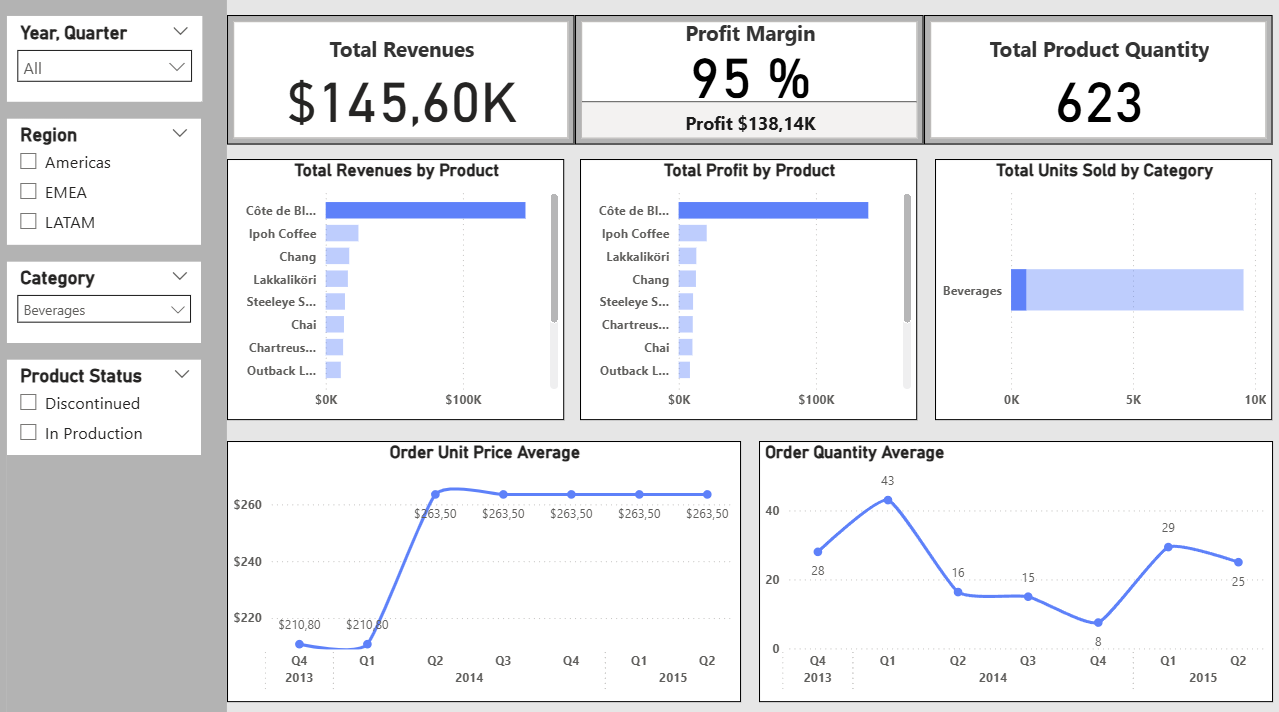

The page's visual inventory and layout, read from the dashboard file:
{"tool":"powerbi","page":{"name":"Products & Category","canvas":[1280,720],"ordinal":2},"visuals":[{"type":"clusteredBarChart","title":"Total Revenues by Product","fields":{"Category":["products.productName"],"Y":["Sum(order_details.revenues)"]},"box":[239.1,165.8,328.2,253.7],"z":0},{"type":"clusteredBarChart","title":"Total Profit by Product","fields":{"Y":["kpi.Profit"],"Category":["products.productName"]},"box":[583,165.8,328.2,253.7],"z":1000},{"type":"lineChart","title":"Order Unit Price Average","fields":{"Category":["date_table.calendar.Year","date_table.calendar.Quarter","date_table.calendar.Month"],"Y":["kpi.Order Unit Price Average"]},"box":[239.1,439.8,499.6,253.7],"z":2000},{"type":"lineChart","title":"Order Quantity Average","fields":{"Category":["date_table.calendar.Year","date_table.calendar.Quarter","date_table.calendar.Month"],"Y":["kpi.Quantity Average"]},"box":[756.7,439.8,499.6,253.7],"z":3000},{"type":"clusteredBarChart","title":"Total Units Sold by Category","fields":{"Category":["categories.categoryName","products.productName"],"Y":["kpi.Total Product Quantity"]},"box":[928.1,165.8,328.2,253.7],"z":4000},{"type":"cardVisual","title":"KPI","fields":{"Data":["kpi.Total Revenues"]},"box":[239.1,24.8,338.3,126.3],"z":5000},{"type":"cardVisual","title":"KPI","fields":{"Data":["kpi.Profit Margin"]},"box":[577.4,24.8,339,126.3],"z":6000},{"type":"cardVisual","title":"KPI","fields":{"Data":["kpi.Total Product Quantity"]},"box":[916.9,24.8,339.5,126.3],"z":7000},{"type":"slicer","title":"Product Category","fields":{"Values":["categories.Category Name"]},"box":[25,264.8,188.9,79.9],"z":8000},{"type":"slicer","fields":{"Values":["products.productStatus"]},"box":[25,359.7,190.9,93.9],"z":9000},{"type":"slicer","fields":{"Values":["customers.geography.region"]},"box":[25,125.9,188.9,122.9],"z":12000},{"type":"shape","box":[12.7,109.7,202.2,16.3],"z":13000},{"type":"shape","box":[19,248.8,202.8,16],"z":15000},{"type":"shape","box":[19,344.7,202.8,16],"z":16000},{"type":"shape","box":[0,0,25,720],"z":17000},{"type":"shape","box":[214,0,25.4,720],"z":18000},{"type":"shape","box":[25,453.6,188.9,266.8],"z":19000},{"type":"shape","box":[12.7,0,202.2,26.3],"z":20000},{"type":"slicer","fields":{"Values":["date_table.calendar.Year","date_table.calendar.Quarter"]},"box":[25.4,26.3,189.5,83.4],"z":21000}]}

Visuals, with their boxes in screenshot pixels (x1, y1, x2, y2), scaled from the page's 1280x720 canvas onto the 1279x712 screenshot:
"Total Revenues by Product" clusteredBarChart: BBox(239, 164, 567, 415)
"Total Profit by Product" clusteredBarChart: BBox(583, 164, 910, 415)
"Order Unit Price Average" lineChart: BBox(239, 435, 738, 686)
"Order Quantity Average" lineChart: BBox(756, 435, 1255, 686)
"Total Units Sold by Category" clusteredBarChart: BBox(927, 164, 1255, 415)
"KPI" cardVisual: BBox(239, 25, 577, 149)
"KPI" cardVisual: BBox(577, 25, 916, 149)
"KPI" cardVisual: BBox(916, 25, 1255, 149)
"Product Category" slicer: BBox(25, 262, 214, 341)
slicer - products.productStatus: BBox(25, 356, 216, 449)
slicer - customers.geography.region: BBox(25, 125, 214, 246)
shape: BBox(13, 108, 215, 125)
shape: BBox(19, 246, 222, 262)
shape: BBox(19, 341, 222, 357)
shape: BBox(0, 0, 25, 711)
shape: BBox(214, 0, 239, 711)
shape: BBox(25, 449, 214, 711)
shape: BBox(13, 0, 215, 26)
slicer - date_table.calendar.Year x date_table.calendar.Quarter: BBox(25, 26, 215, 108)
